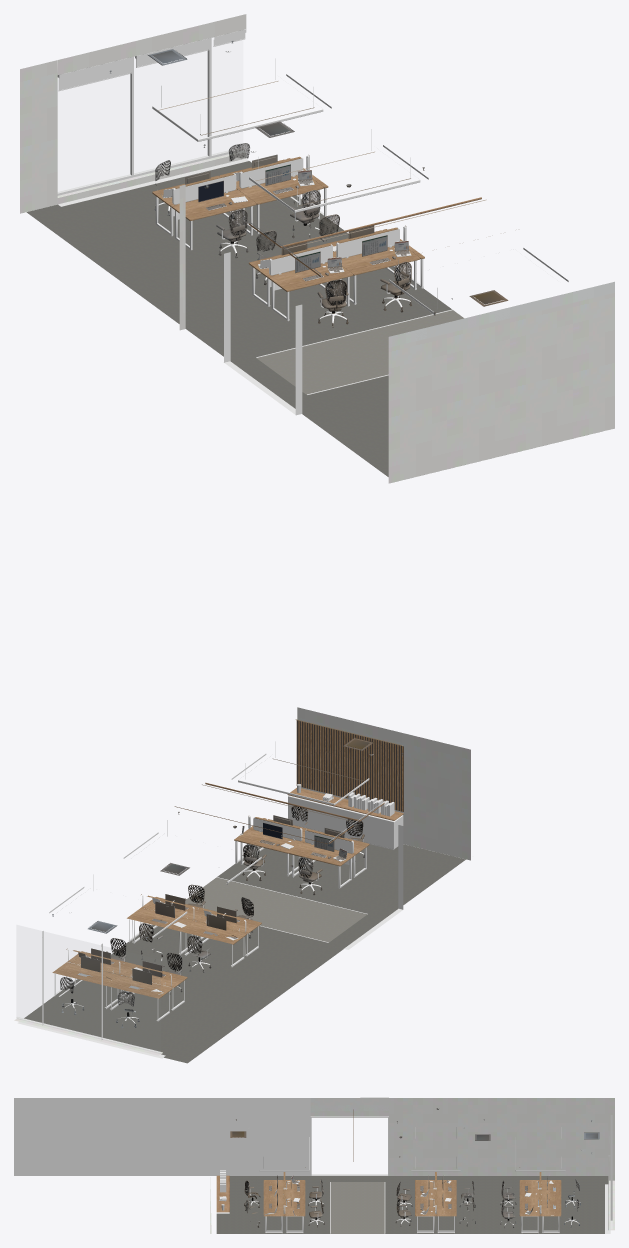
File: z-open_w-lite.full.36d17baa.glb
3 renders of one model, top to bottom at view 1: azimuth 30°, elevation 25°; view 2: azimuth 150°, elevation 25°; view 3: azimuth 270°, elevation 25°, orthographic. The views are drawn at different scales.
Parts seen in each view (by area): view 1: open_w_plaster, open_w_carpet, open_w_satin, open_w_fx, open_w_oak, open_w_emit, open_w_metal_lit; view 2: open_w_carpet, open_w_plaster, open_w_satin, open_w_oak, open_w_fx, open_w_proxy_slat, open_w_metal_lit, open_w_emit; view 3: open_w_satin, open_w_plaster, open_w_carpet, open_w_oak, open_w_fx, open_w_metal_lit.
Boxes of the visible parts, x1,y1,x2,y2 form: open_w_plaster: [20, 14, 614, 483]; open_w_carpet: [26, 161, 463, 476]; open_w_satin: [57, 29, 568, 415]; open_w_fx: [109, 41, 508, 327]; open_w_oak: [152, 155, 481, 291]; open_w_emit: [158, 81, 486, 272]; open_w_metal_lit: [61, 51, 411, 414]; open_w_carpet: [24, 844, 465, 1063]; open_w_plaster: [14, 707, 470, 1055]; open_w_satin: [16, 741, 403, 1058]; open_w_oak: [52, 782, 403, 998]; open_w_fx: [52, 738, 403, 1027]; open_w_proxy_slat: [296, 720, 403, 811]; open_w_metal_lit: [57, 826, 403, 1055]; open_w_emit: [179, 719, 402, 911]; open_w_satin: [14, 1098, 612, 1233]; open_w_plaster: [210, 1097, 614, 1233]; open_w_carpet: [216, 1176, 608, 1233]; open_w_oak: [216, 1109, 561, 1216]; open_w_fx: [230, 1108, 599, 1227]; open_w_metal_lit: [249, 1149, 605, 1233].
Bounding box in the file's own units: 5.4 × 3.35 × 23.
Materials: 10 (6 with a texture image).
